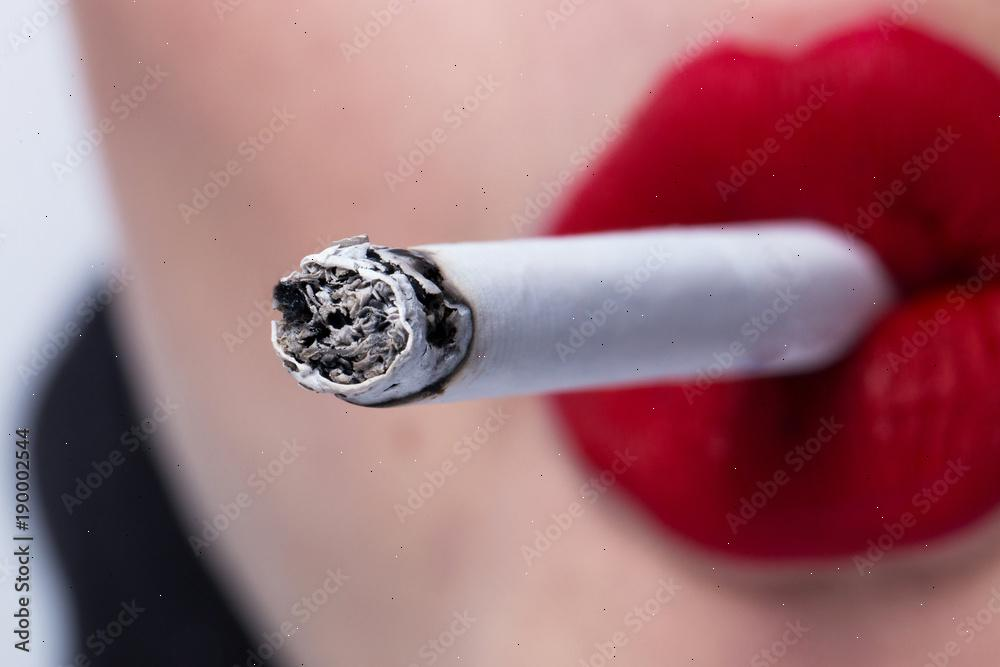cigarette: (272, 221, 893, 405)
